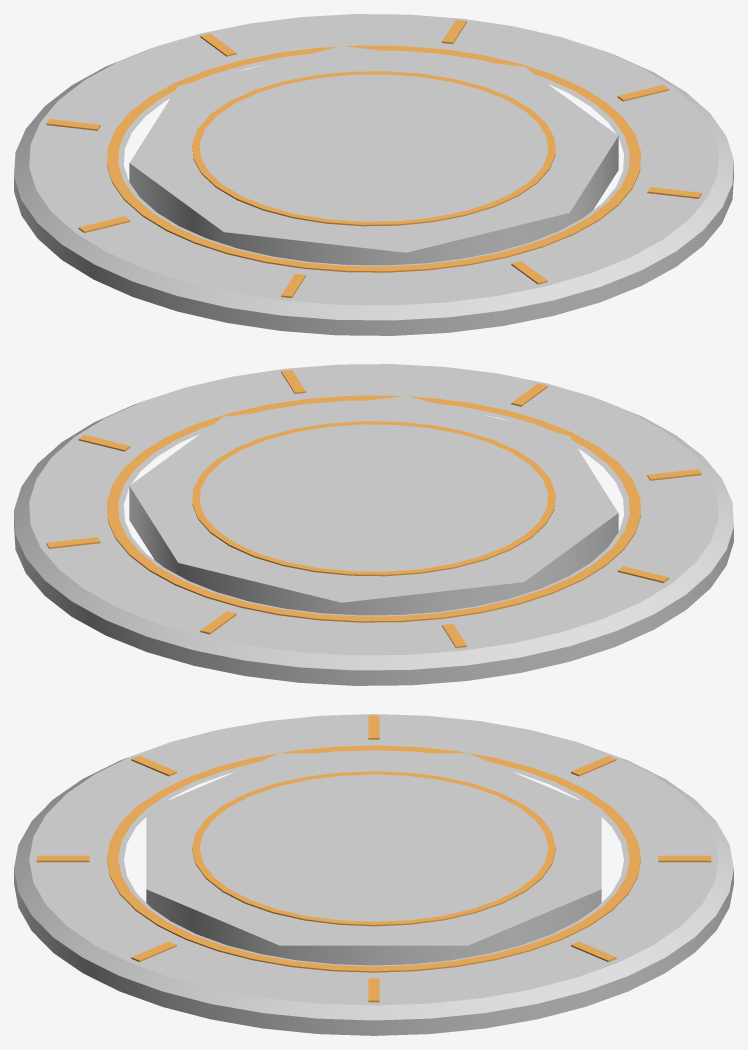
Rendered from SpawnPedestal.glb.
3 views of the same model, one above another, from view 1: azimuth 30°, elevation 25°; view 2: azimuth 150°, elevation 25°; view 3: azimuth 270°, elevation 25° (orthographic).
Visible parts, largest first — view 1: Body, Glow; view 2: Body, Glow; view 3: Body, Glow.
Part boxes in pixels (x1,y1,x2,y2): Body: (14, 14, 733, 335); Glow: (46, 19, 701, 298); Body: (14, 364, 733, 685); Glow: (46, 369, 701, 648); Body: (14, 714, 733, 1035); Glow: (36, 715, 711, 1002).
Size of the model in its own units: 19 by 1.04 by 19.
